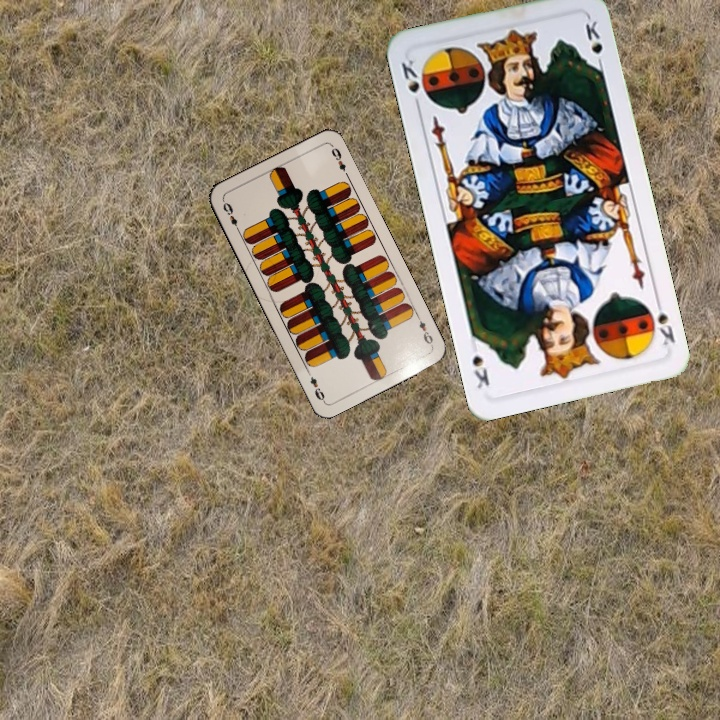E9: (219, 197, 242, 235), (415, 317, 435, 349)
SK: (397, 54, 423, 112), (651, 293, 678, 348)
